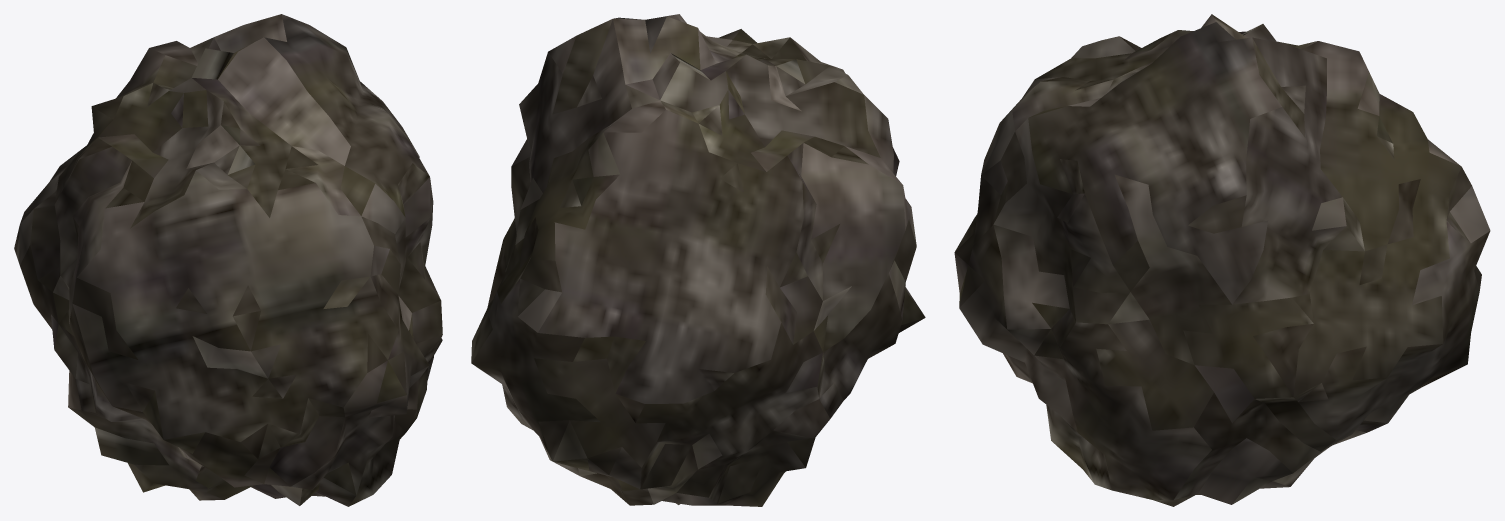
File: asteroid_0.glb
The picture shows the model from 3 angles, left to right: view 1: azimuth 30°, elevation 25°; view 2: azimuth 150°, elevation 25°; view 3: azimuth 270°, elevation 25°; orthographic projection. The views are drawn at different scales.
Visible parts, largest first — view 1: Asteroid0; view 2: Asteroid0; view 3: Asteroid0.
Part boxes in pixels (box(x1,y1,x2,y2)): Asteroid0: box(14, 14, 442, 506); Asteroid0: box(471, 14, 925, 506); Asteroid0: box(954, 14, 1490, 506).
Bounding box in the file's own units: 1.65 × 2 × 2.12.
Materials: 1 (1 with a texture image).
